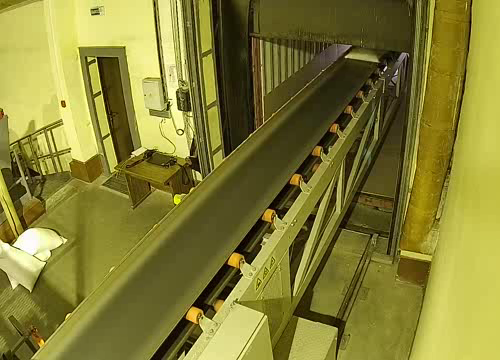bag: (343, 44, 386, 66)
